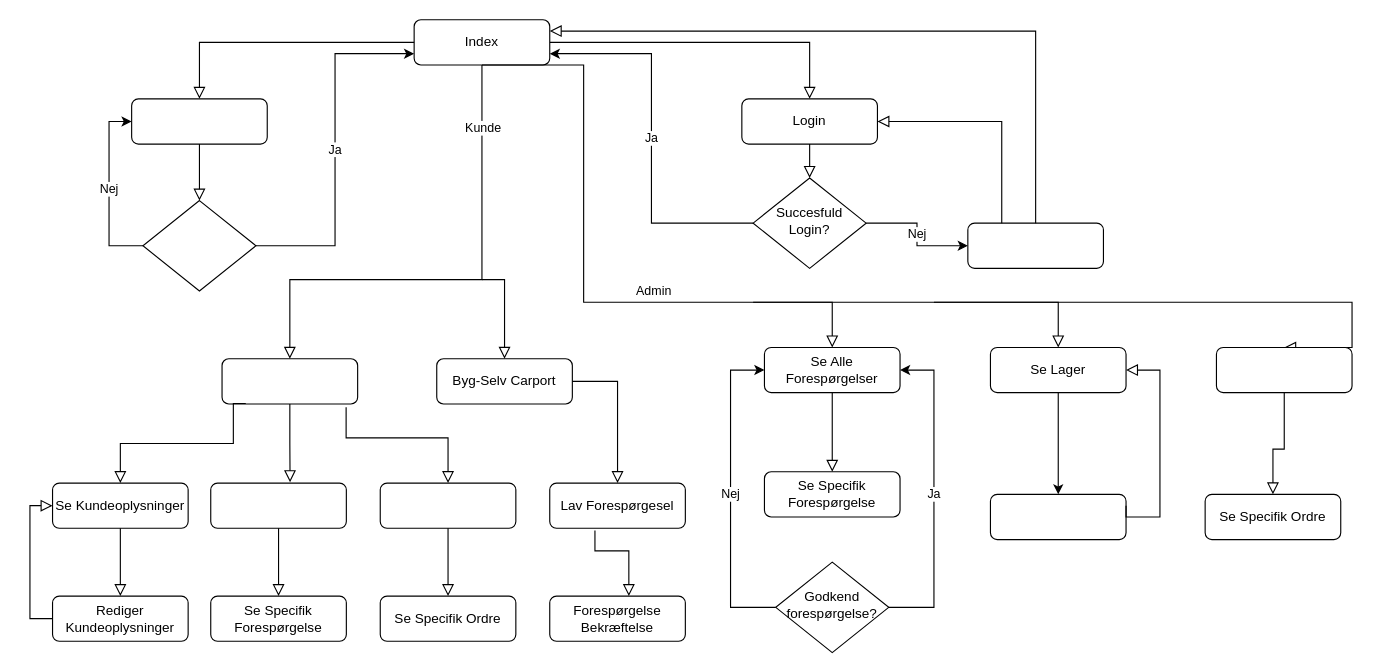
Image size: 1383x672. Some labels were removed from this diagram. The centre of each missing label's shape, as x and y in pixels:
Error: the point at 1035,245
Kunde profil: the point at 289,381
Rediger Lager: the point at 1057,516
Register: the point at 199,121
Se Alle Ordre: the point at 1283,369
Se Forespørgelser: the point at 278,505
Se Ordrehistorik: the point at 447,505
Succesfuld Registrering?: the point at 199,245
